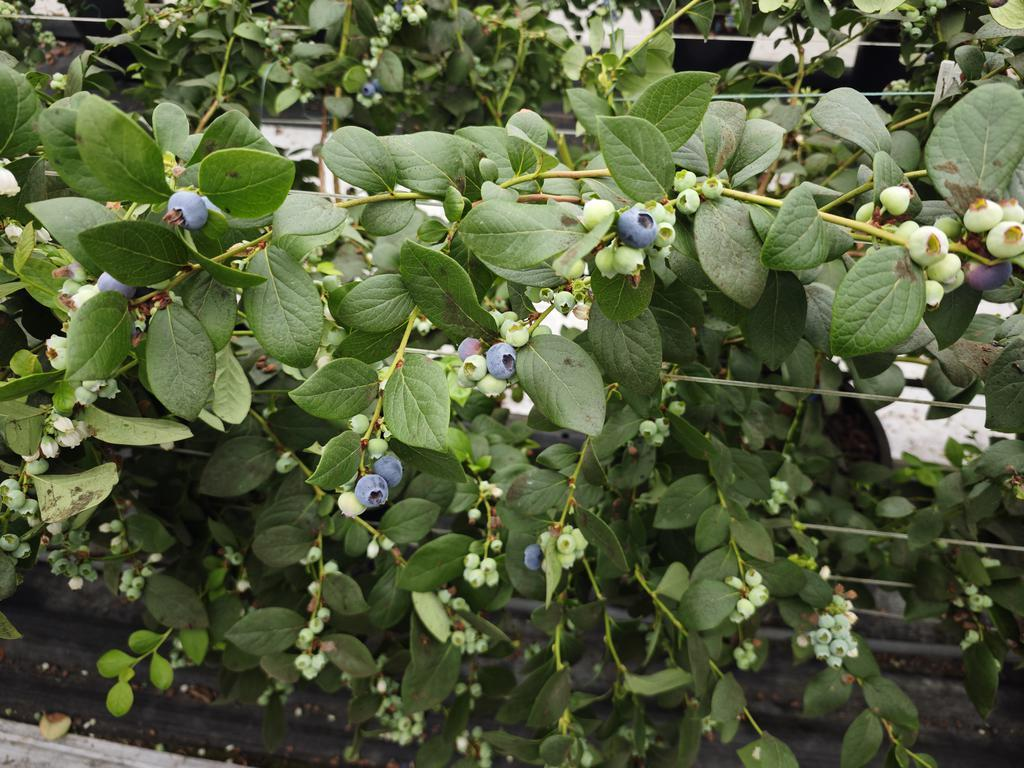RipeBlueBerry: (614, 203, 671, 261), (159, 188, 212, 242), (487, 344, 522, 394)
UnripeBlueBerry: (908, 219, 952, 271), (354, 469, 392, 516), (987, 217, 1024, 260), (344, 409, 372, 439), (458, 359, 491, 378)
